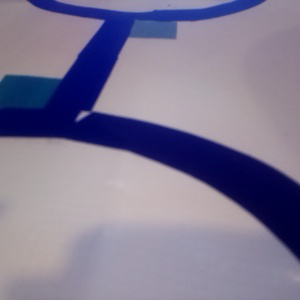bottom_right: (104, 12, 177, 39)
top_left: (1, 74, 90, 137)
